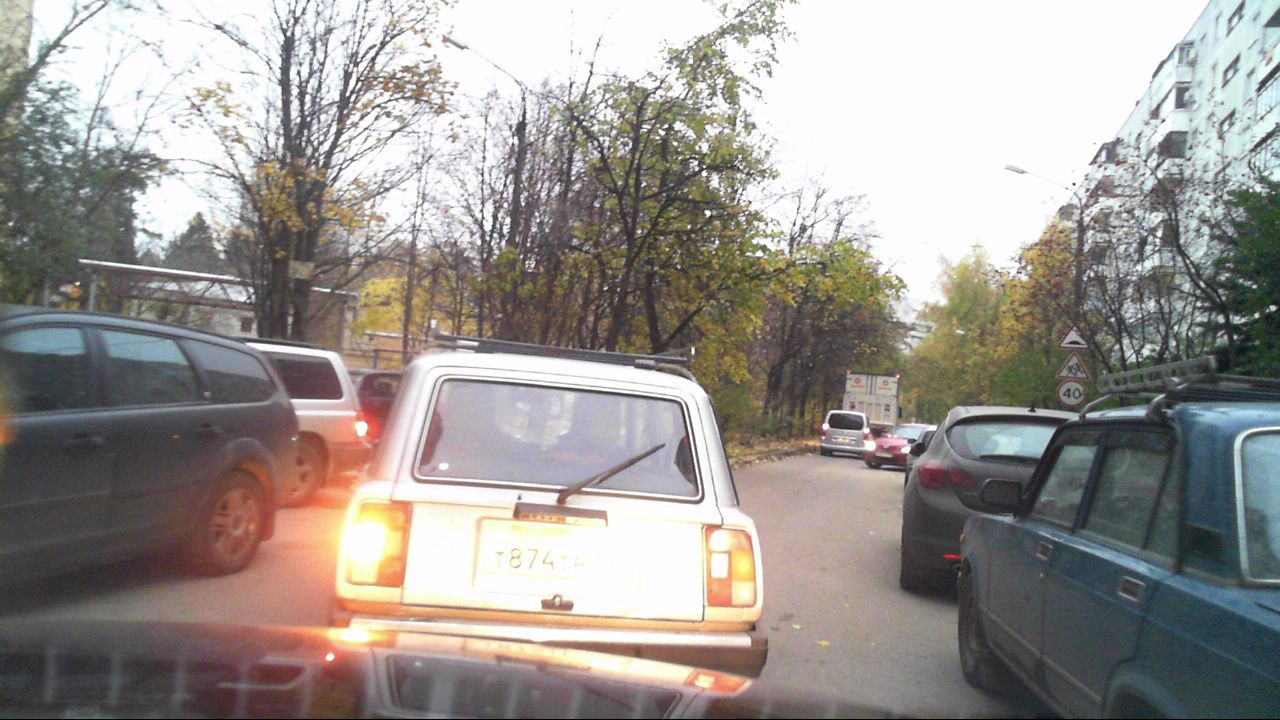speed_warning_40: (1059, 379, 1086, 405)
